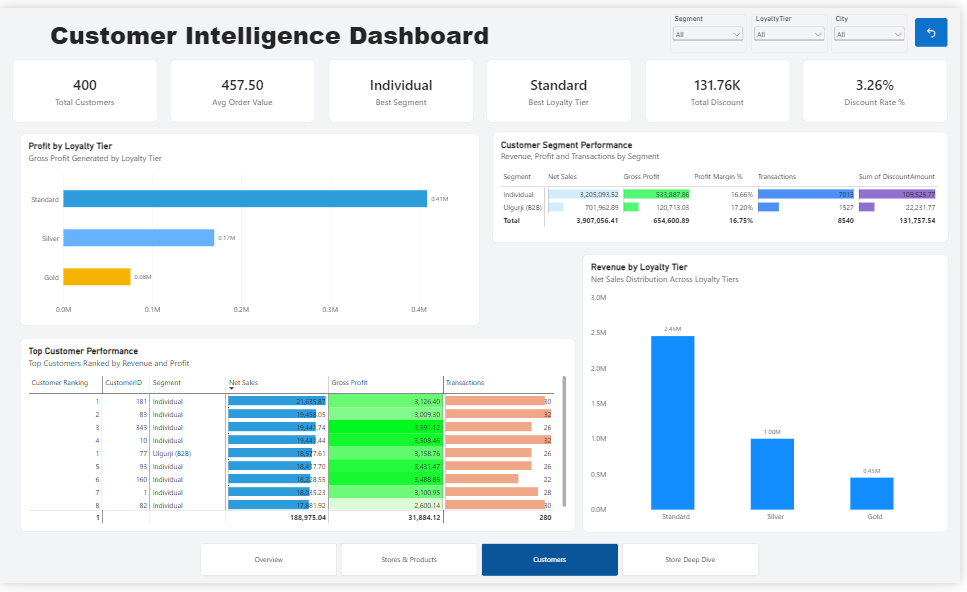

What the dashboard file says about the page in this screenshot:
{"tool":"powerbi","page":{"name":"Customers","canvas":[1920,1150],"ordinal":2},"visuals":[{"type":"slicer","fields":{"Values":["Dim_Customer.Segment"]},"box":[1340,11.2,152.5,77.5],"z":0,"group":"g2"},{"type":"group","id":"g1","title":"Group 1","box":[25,102.5,1870,126.7],"z":0},{"type":"card","fields":{"Values":["Measures for page 3.Total Customers"]},"box":[25,102.5,290,126.7],"z":0,"group":"g1"},{"type":"slicer","fields":{"Values":["Dim_Customer.LoyaltyTier"]},"box":[1501.7,11.2,152.5,77.5],"z":1000,"group":"g2"},{"type":"card","fields":{"Values":["TabelMeasures.Avg Order Value"]},"box":[341,102.5,290,126.7],"z":1000,"group":"g1"},{"type":"slicer","fields":{"Values":["Dim_Customer.City"]},"box":[1663.3,11.2,152.5,77.5],"z":2000,"group":"g2"},{"type":"card","fields":{"Values":["Measures for page 3.Best Segment"]},"box":[657,102.5,290,126.7],"z":2000,"group":"g1"},{"type":"clusteredColumnChart","title":"Revenue by Loyalty Tier","fields":{"Category":["Dim_Customer.LoyaltyTier"],"Y":["TabelMeasures.Net Sales"]},"box":[1164,492,732,556],"z":2000},{"type":"card","fields":{"Values":["Measures for page 3.Best Loyalty Tier"]},"box":[973,102.5,290,126.7],"z":3000,"group":"g1"},{"type":"pivotTable","title":"Customer Segment Performance","fields":{"Rows":["Dim_Customer.Segment"],"Values":["TabelMeasures.Net Sales","TabelMeasures.Gross Profit","TabelMeasures.Profit Margin %","TabelMeasures.Transactions","Sum(Fact_Sales.DiscountAmount)"]},"box":[984,248,912,222],"z":3000},{"type":"card","fields":{"Values":["Measures for page 3.Total Discount"]},"box":[1289,102.5,290,126.7],"z":4000,"group":"g1"},{"type":"clusteredBarChart","title":"Profit by Loyalty Tier","fields":{"Category":["Dim_Customer.LoyaltyTier"],"Y":["TabelMeasures.Gross Profit"]},"box":[41.1,248.9,919.8,385.2],"z":4000},{"type":"card","fields":{"Values":["Measures for page 3.Discount Rate %"]},"box":[1605,102.5,290,126.7],"z":5000,"group":"g1"},{"type":"tableEx","title":"Top Customer Performance","fields":{"Values":["Measures for page 3.Customer Ranking","Dim_Customer.CustomerID","Dim_Customer.Segment","TabelMeasures.Net Sales","TabelMeasures.Gross Profit","TabelMeasures.Transactions"]},"box":[41.1,660.1,1110.2,387.4],"z":5000},{"type":"group","id":"g2","title":"Group 2","box":[1340,11.2,476.2,77.5],"z":6000},{"type":"actionButton","box":[1830,20,65.6,57.8],"z":7000},{"type":"textbox","box":[100,20,917.5,92.5],"z":8000},{"type":"pageNavigator","box":[400,1070,1120,67.5],"z":9000}]}

Visuals, with their boxes in screenshot pixels (x1, y1, x2, y2), scaled from the page's 1920x1150 canvas onto the 967x592 screenshot:
slicer - Dim_Customer.Segment: locate(675, 6, 752, 46)
"Group 1" group: locate(13, 53, 954, 118)
card - Measures for page 3.Total Customers: locate(13, 53, 159, 118)
slicer - Dim_Customer.LoyaltyTier: locate(756, 6, 833, 46)
card - TabelMeasures.Avg Order Value: locate(172, 53, 318, 118)
slicer - Dim_Customer.City: locate(838, 6, 915, 46)
card - Measures for page 3.Best Segment: locate(331, 53, 477, 118)
"Revenue by Loyalty Tier" clusteredColumnChart: locate(586, 253, 955, 539)
card - Measures for page 3.Best Loyalty Tier: locate(490, 53, 636, 118)
"Customer Segment Performance" pivotTable: locate(496, 128, 955, 242)
card - Measures for page 3.Total Discount: locate(649, 53, 795, 118)
"Profit by Loyalty Tier" clusteredBarChart: locate(21, 128, 484, 326)
card - Measures for page 3.Discount Rate %: locate(808, 53, 954, 118)
"Top Customer Performance" tableEx: locate(21, 340, 580, 539)
"Group 2" group: locate(675, 6, 915, 46)
actionButton: locate(922, 10, 955, 40)
textbox: locate(50, 10, 512, 58)
pageNavigator: locate(201, 551, 766, 586)
